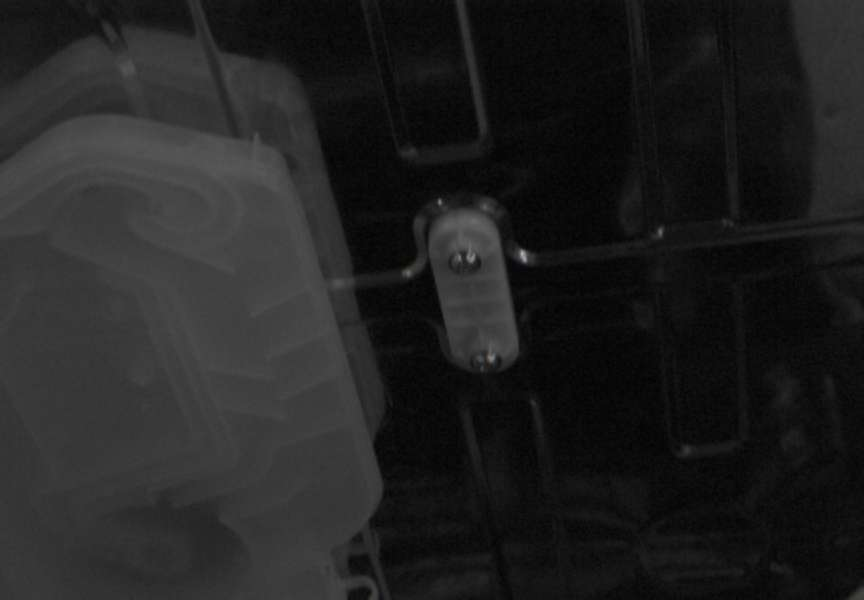screw: (449, 249, 482, 275), (470, 351, 502, 373)
